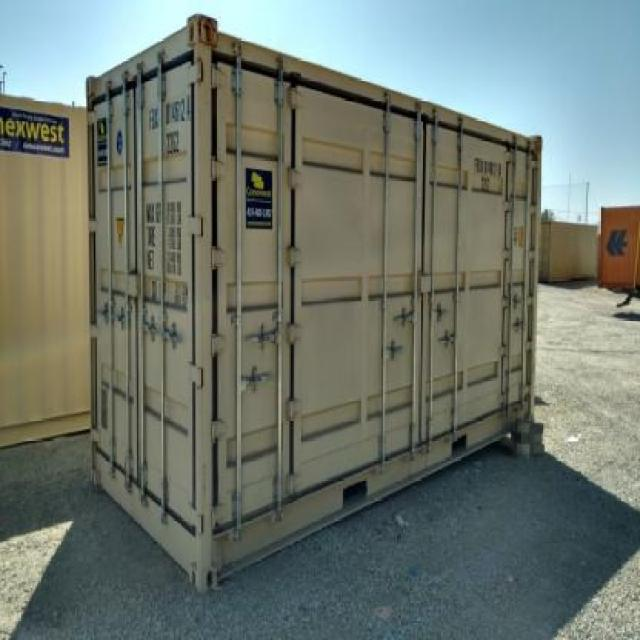ISO: (161, 132, 183, 159)
container_number: (146, 88, 198, 134)
